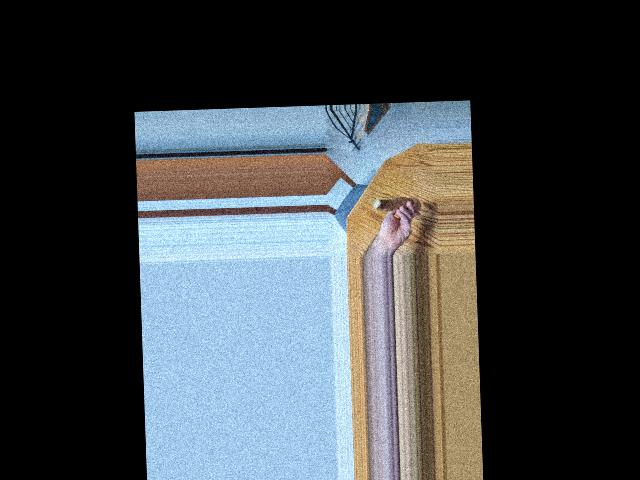sweet_potato: (372, 196, 422, 217)
